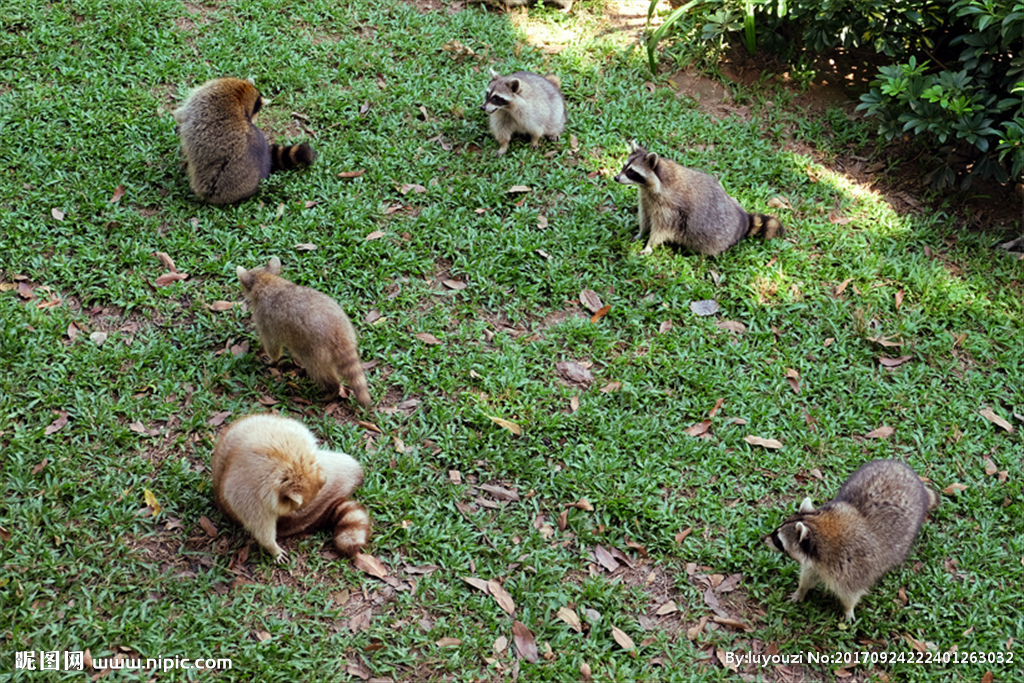raccoon: (198, 407, 387, 586), (770, 450, 940, 620), (230, 249, 407, 405), (170, 71, 335, 207), (608, 138, 791, 256), (470, 60, 584, 161)
